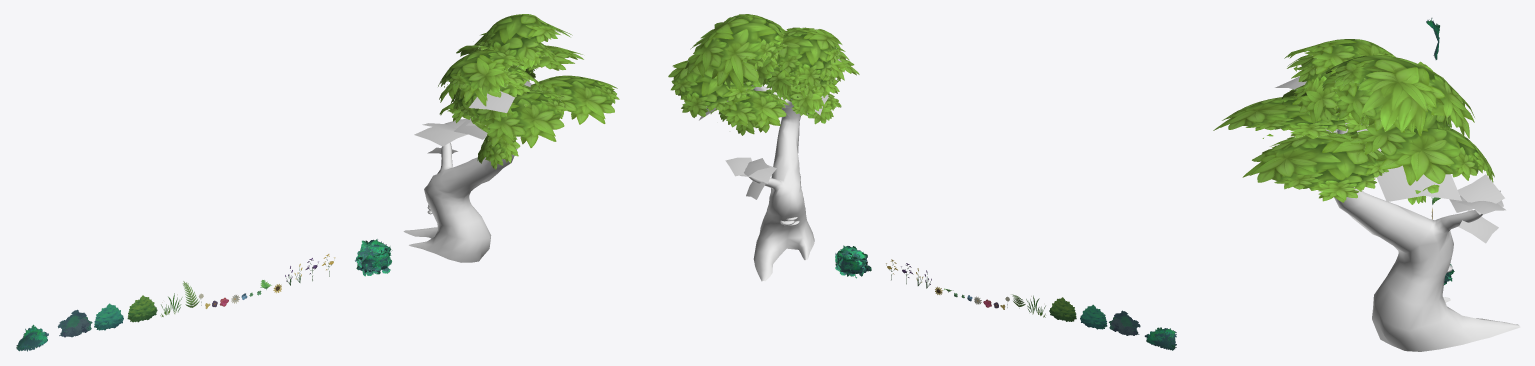
File: Plants.fbx
3 renders of one model, left to right at view 1: azimuth 30°, elevation 25°; view 2: azimuth 150°, elevation 25°; view 3: azimuth 270°, elevation 25°, orthographic. The views are drawn at different scales.
Visible parts, largest first — view 1: SM_Tree, SM_Bush, SM_Bush_03, SM_Bush_02, SM_Bush_01, SM_Bush_04; view 2: SM_Tree, SM_Bush, SM_Bush_04, SM_Bush_03, SM_Bush_01, SM_Bush_02; view 3: SM_Tree.
Part boxes in pixels (box(x1,y1,x2,y2)): SM_Tree: box(403, 14, 619, 262); SM_Bush: box(355, 239, 392, 276); SM_Bush_03: box(57, 309, 92, 337); SM_Bush_02: box(127, 295, 157, 322); SM_Bush_01: box(94, 303, 123, 330); SM_Bush_04: box(16, 324, 48, 351); SM_Tree: box(668, 14, 859, 281); SM_Bush: box(835, 245, 871, 278); SM_Bush_04: box(1144, 327, 1176, 350); SM_Bush_03: box(1109, 310, 1140, 335); SM_Bush_01: box(1080, 304, 1107, 329); SM_Bush_02: box(1049, 297, 1076, 321); SM_Tree: box(1213, 39, 1520, 351).
Size of the model in its own units: 821 by 320 by 290.
